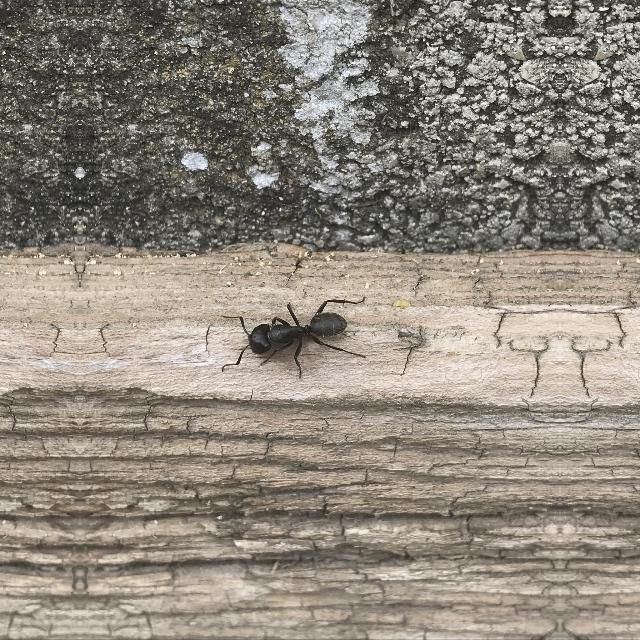Camponotus: (235, 299, 341, 367)
